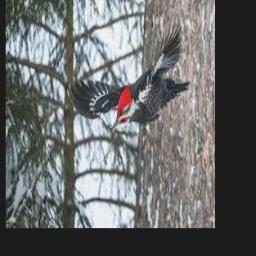Woodpecker: (67, 22, 189, 131)
